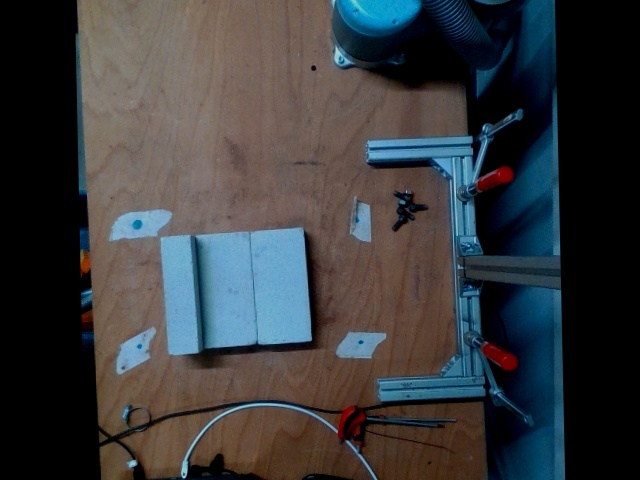brick-side: (157, 233, 200, 357)
